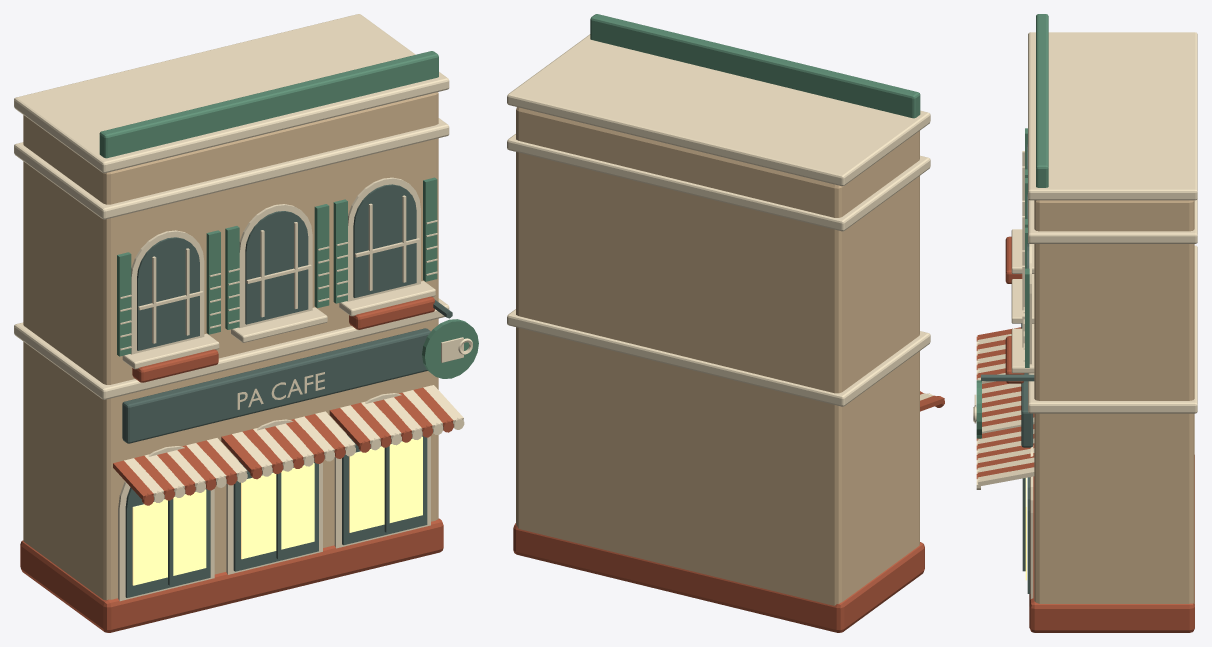
File: tpe3_corner_cafe_7m.glb
The picture shows the model from 3 angles, left to right: view 1: azimuth 30°, elevation 25°; view 2: azimuth 150°, elevation 25°; view 3: azimuth 270°, elevation 25°; orthographic projection. The views are drawn at different scales.
Parts seen in each view (by area): view 1: tpe3_corner_cafe_7m__tpe3-plaster-cream, tpe3_corner_cafe_7m__tpe3-ivory, tpe3_corner_cafe_7m__tpe3-dark-timber, tpe3_corner_cafe_7m__tpe3-terracotta, tpe3_corner_cafe_7m__tpe3-sage, tpe3_corner_cafe_7m__tpe3-emissive-warm; view 2: tpe3_corner_cafe_7m__tpe3-plaster-cream, tpe3_corner_cafe_7m__tpe3-ivory, tpe3_corner_cafe_7m__tpe3-terracotta, tpe3_corner_cafe_7m__tpe3-sage; view 3: tpe3_corner_cafe_7m__tpe3-plaster-cream, tpe3_corner_cafe_7m__tpe3-ivory, tpe3_corner_cafe_7m__tpe3-terracotta, tpe3_corner_cafe_7m__tpe3-sage, tpe3_corner_cafe_7m__tpe3-dark-timber.
Boxes of the visible parts, x1,y1,x2,y2 form: tpe3_corner_cafe_7m__tpe3-plaster-cream: (23, 92, 438, 600); tpe3_corner_cafe_7m__tpe3-ivory: (14, 14, 472, 601); tpe3_corner_cafe_7m__tpe3-dark-timber: (122, 184, 452, 597); tpe3_corner_cafe_7m__tpe3-terracotta: (20, 296, 453, 632); tpe3_corner_cafe_7m__tpe3-sage: (99, 51, 478, 378); tpe3_corner_cafe_7m__tpe3-emissive-warm: (132, 436, 422, 585); tpe3_corner_cafe_7m__tpe3-plaster-cream: (516, 107, 919, 605); tpe3_corner_cafe_7m__tpe3-ivory: (507, 34, 933, 406); tpe3_corner_cafe_7m__tpe3-terracotta: (513, 391, 944, 632); tpe3_corner_cafe_7m__tpe3-sage: (590, 14, 920, 118); tpe3_corner_cafe_7m__tpe3-plaster-cream: (1034, 200, 1194, 603); tpe3_corner_cafe_7m__tpe3-ivory: (973, 32, 1197, 599); tpe3_corner_cafe_7m__tpe3-terracotta: (976, 236, 1194, 632); tpe3_corner_cafe_7m__tpe3-sage: (976, 14, 1048, 438); tpe3_corner_cafe_7m__tpe3-dark-timber: (981, 144, 1034, 593).
Bounding box in the file's own units: 7.08 × 9.65 × 4.2.
